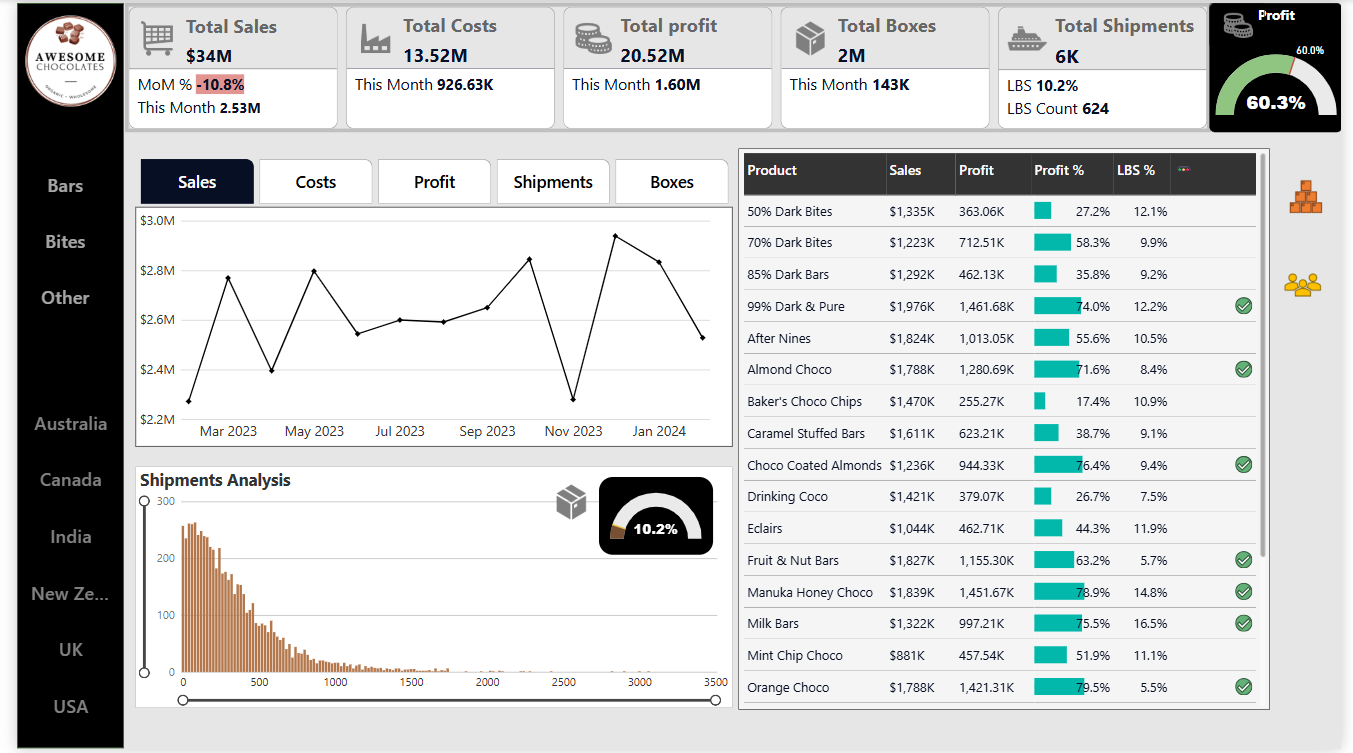

The page's visual inventory and layout, read from the dashboard file:
{"tool":"powerbi","page":{"name":"Sales Report","canvas":[1920,1080],"ordinal":2},"visuals":[{"type":"shape","box":[0,0,155,1080],"z":0},{"type":"cardVisual","fields":{"Data":["_Measures.Total Sales","_Measures.Total Costs","_Measures.Total profit","_Measures.Total Boxes","_Measures.Total Shipments"]},"box":[155.4,0,1573.9,187],"z":1000},{"type":"gauge","title":"Profit","fields":{"Y":["_Measures.Profit %"]},"box":[1729.3,0,191.9,187],"z":2000},{"type":"image","title":"firm logo","box":[7.5,0,142.5,167.5],"z":3000},{"type":"lineChart","fields":{"Y":["_Measures.Total Sales"],"Category":["calendar.Start of Month"]},"box":[172.5,295,865,347.5],"z":4000},{"type":"advancedSlicerVisual","fields":{"Values":["Measure Selector.Measure Selector"]},"box":[173.3,210,865,85],"z":5000},{"type":"columnChart","title":"Shipments Analysis","fields":{"Category":["shipments.Boxes (bins)"],"Y":["_Measures.Total Shipments"]},"box":[172.5,672.5,865,350],"z":6000},{"type":"gauge","fields":{"Y":["_Measures.LBS %"]},"box":[842.5,687.5,165,112.5],"z":7000},{"type":"image","box":[762.5,687.5,80,72.5],"z":8000},{"type":"image","box":[1729.3,0,80.2,63.1],"z":9000},{"type":"tableEx","title":"Products Details","fields":{"Values":["products.Product","_Measures.Total Sales","_Measures.Total profit","_Measures.Profit %","_Measures.LBS %","_Measures.Profit Target Indicator"]},"box":[1045,210,770,813.3],"z":11000},{"type":"advancedSlicerVisual","fields":{"Values":["products.Category"]},"box":[0,222.5,140,245],"z":12000},{"type":"advancedSlicerVisual","fields":{"Values":["locations.Geo"]},"box":[2.5,565,152.5,495],"z":13000},{"type":"image","box":[1815,222.5,105,117.5],"z":14000},{"type":"image","box":[1810,350,105,117.5],"z":15000}]}

Visuals, with their boxes in screenshot pixels (x1, y1, x2, y2), scaled from the page's 1920x1080 canvas onto the 1353x753 screenshot:
shape: box(0, 0, 109, 752)
cardVisual - _Measures.Total Sales x _Measures.Total Costs: box(110, 0, 1219, 130)
"Profit" gauge: box(1219, 0, 1352, 130)
"firm logo" image: box(5, 0, 106, 117)
lineChart - _Measures.Total Sales x calendar.Start of Month: box(122, 206, 731, 448)
advancedSlicerVisual - Measure Selector.Measure Selector: box(122, 146, 732, 206)
"Shipments Analysis" columnChart: box(122, 469, 731, 713)
gauge - _Measures.LBS %: box(594, 479, 710, 558)
image: box(537, 479, 594, 530)
image: box(1219, 0, 1275, 44)
"Products Details" tableEx: box(736, 146, 1279, 713)
advancedSlicerVisual - products.Category: box(0, 155, 99, 326)
advancedSlicerVisual - locations.Geo: box(2, 394, 109, 739)
image: box(1279, 155, 1352, 237)
image: box(1275, 244, 1349, 326)
